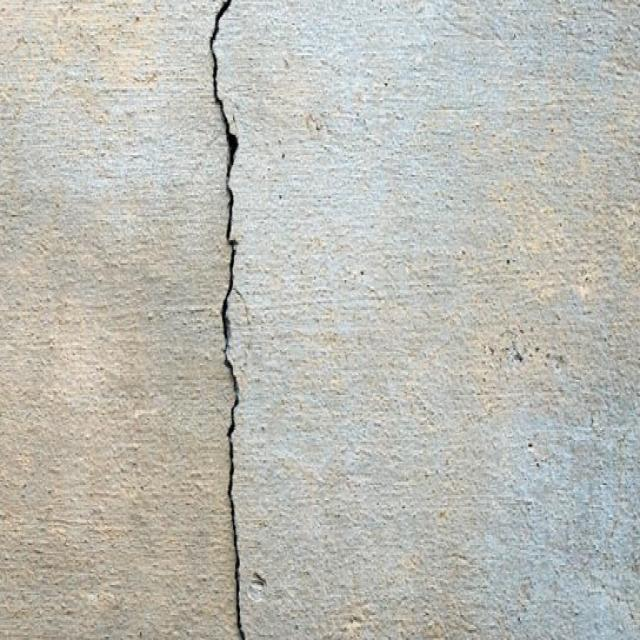Longitudinal: (175, 0, 286, 640)
